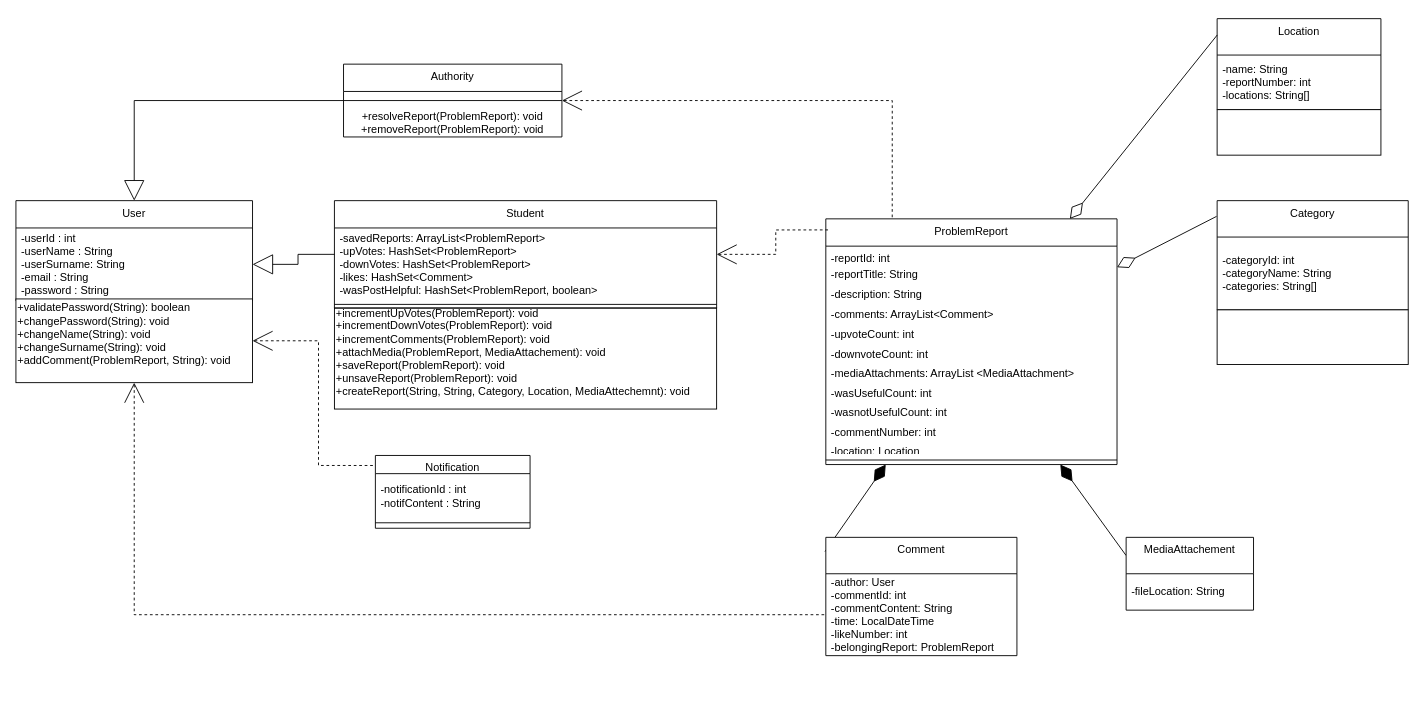
This 1424x717 diagram has some shape labels left out. The centre of each missing label's shape, as x and y in pixels:
"+incrementReportNumber(): void" goes at point 1298,132.
"+sortByDate(): void +listPRBasedOnCategory(int): void" goes at point 1312,336.
